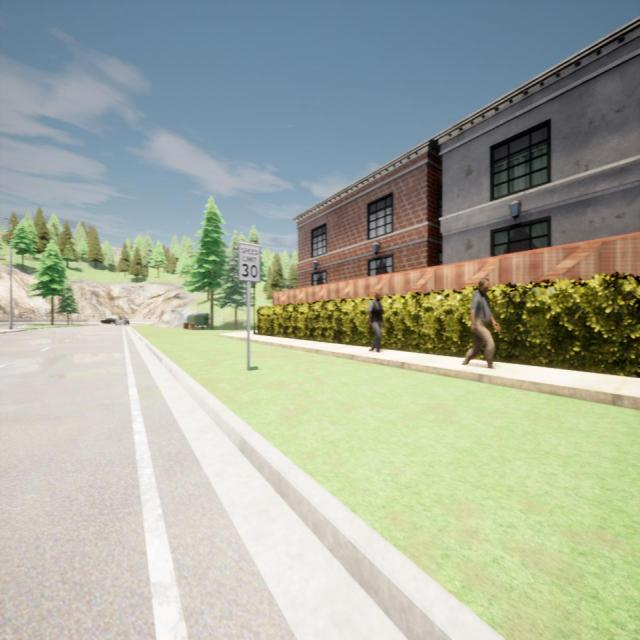Pedestrian: (462, 278, 499, 367), (368, 292, 384, 352)
Traffic_Signs: (239, 242, 260, 281)
Vehicle: (116, 316, 130, 325), (100, 318, 116, 324)
